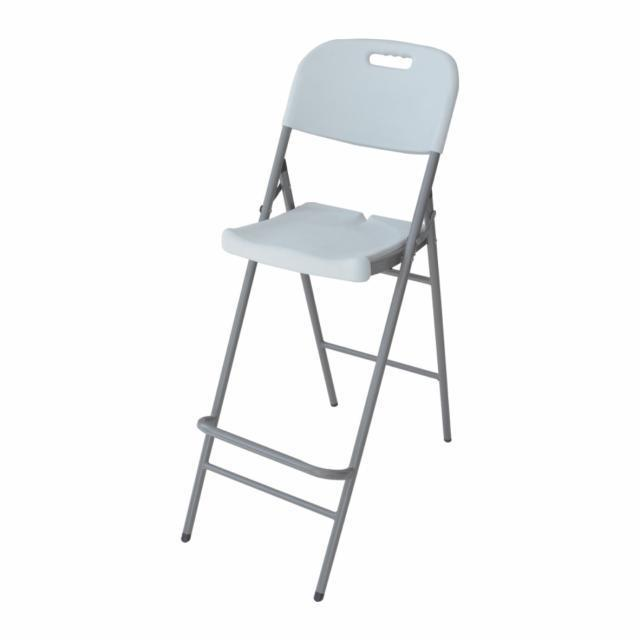chair: (179, 37, 466, 602)
